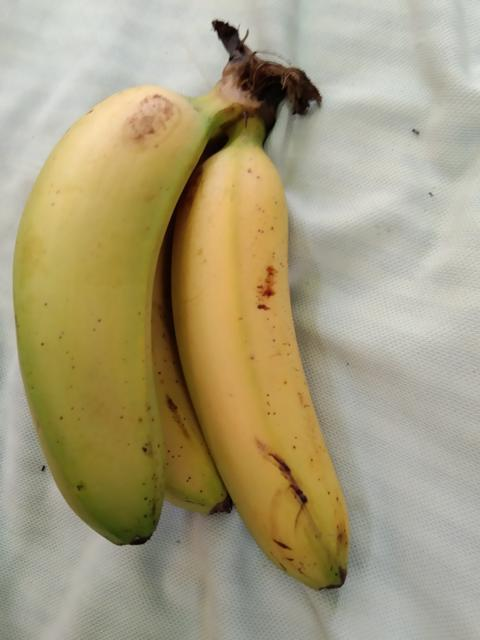freshripe: (0, 74, 206, 567)
ripe: (173, 146, 356, 604)
